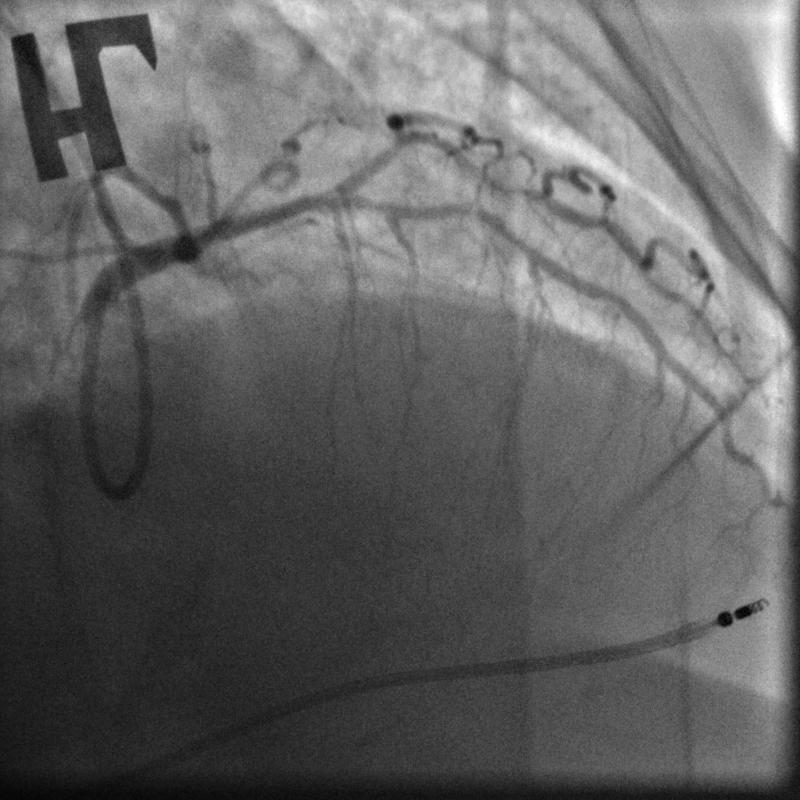Stenosis: (444, 200, 514, 246)
